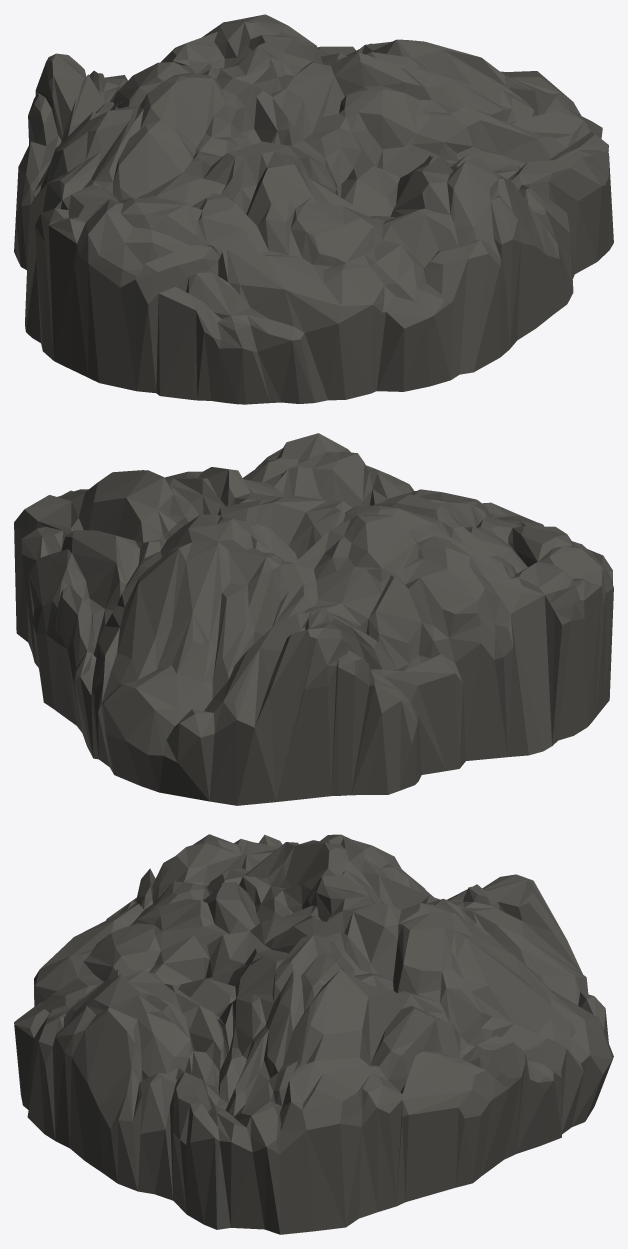
File: rock_rough_01.gltf
The picture shows the model from 3 angles, top to bottom: view 1: azimuth 30°, elevation 25°; view 2: azimuth 150°, elevation 25°; view 3: azimuth 270°, elevation 25°; orthographic projection. The views are drawn at different scales.
Parts seen in each view (by area): view 1: rock_rough_01; view 2: rock_rough_01; view 3: rock_rough_01.
Part boxes in pixels (x1,y1,x2,y2): rock_rough_01: [14, 14, 613, 404]; rock_rough_01: [14, 433, 613, 805]; rock_rough_01: [14, 834, 613, 1234].
Bounding box in the file's own units: 8.58 × 3.14 × 8.23.
Materials: 1 (1 with a texture image).
